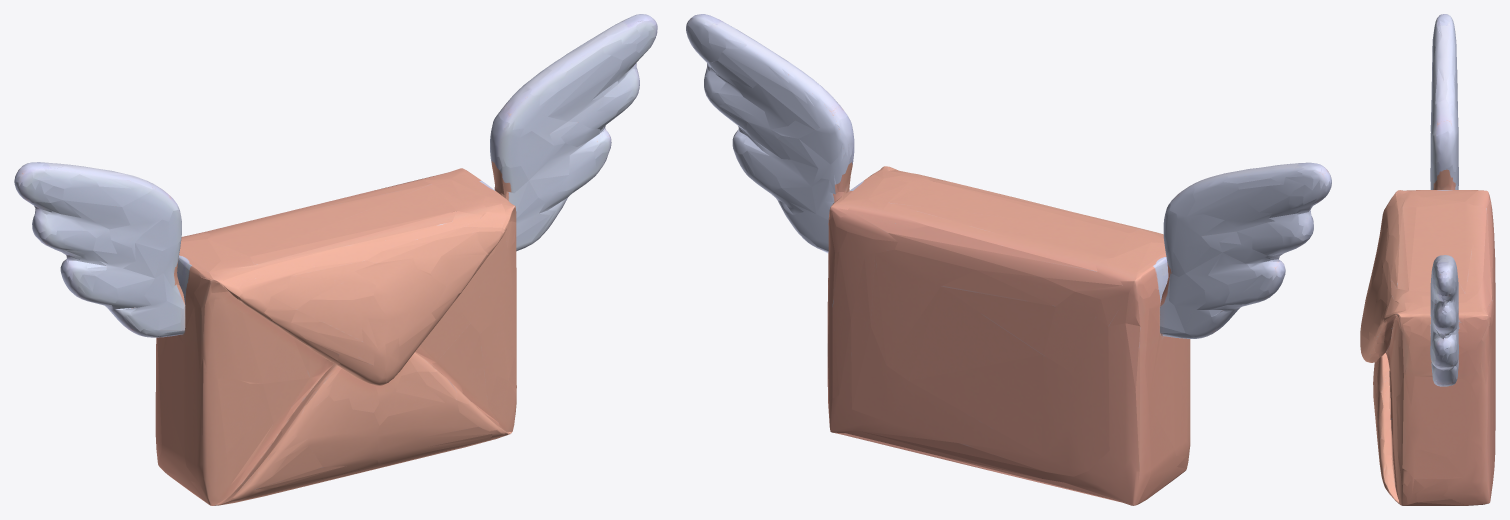
Rendered from envelope.glb.
3 renders of one model, left to right at view 1: azimuth 30°, elevation 25°; view 2: azimuth 150°, elevation 25°; view 3: azimuth 270°, elevation 25°, orthographic. The views are drawn at different scales.
Parts seen in each view (by area): view 1: output_unwrapped; view 2: output_unwrapped; view 3: output_unwrapped.
Boxes of the visible parts, left/top/right/bottom form: output_unwrapped: left=14, top=14, right=657, bottom=505; output_unwrapped: left=686, top=14, right=1331, bottom=505; output_unwrapped: left=1360, top=14, right=1495, bottom=505.
Bounding box in the file's own units: 1.9 × 1.03 × 0.4144.
Materials: 1 (1 with a texture image).
